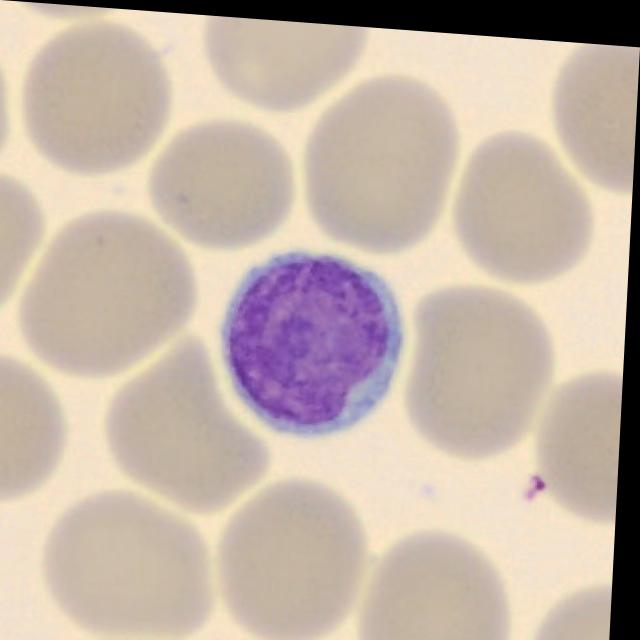Linfocito atipico: (223, 245, 407, 436)
